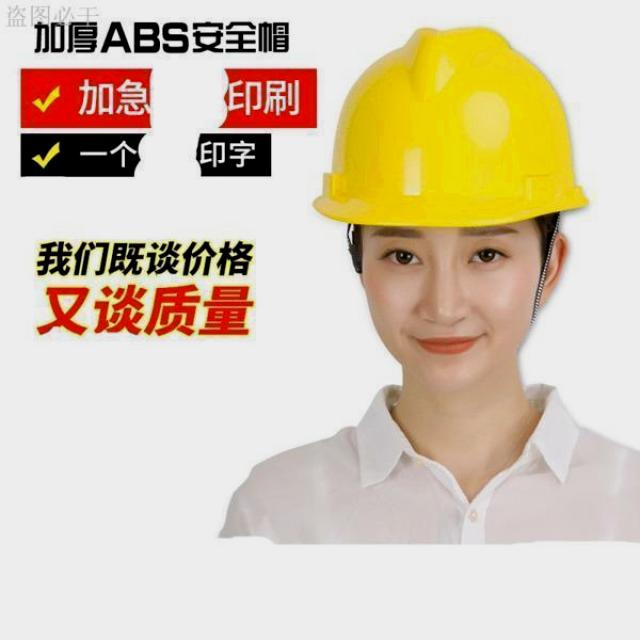face_nomask: (351, 224, 551, 396)
head_helmet: (326, 44, 602, 234)
person: (303, 19, 640, 562)
